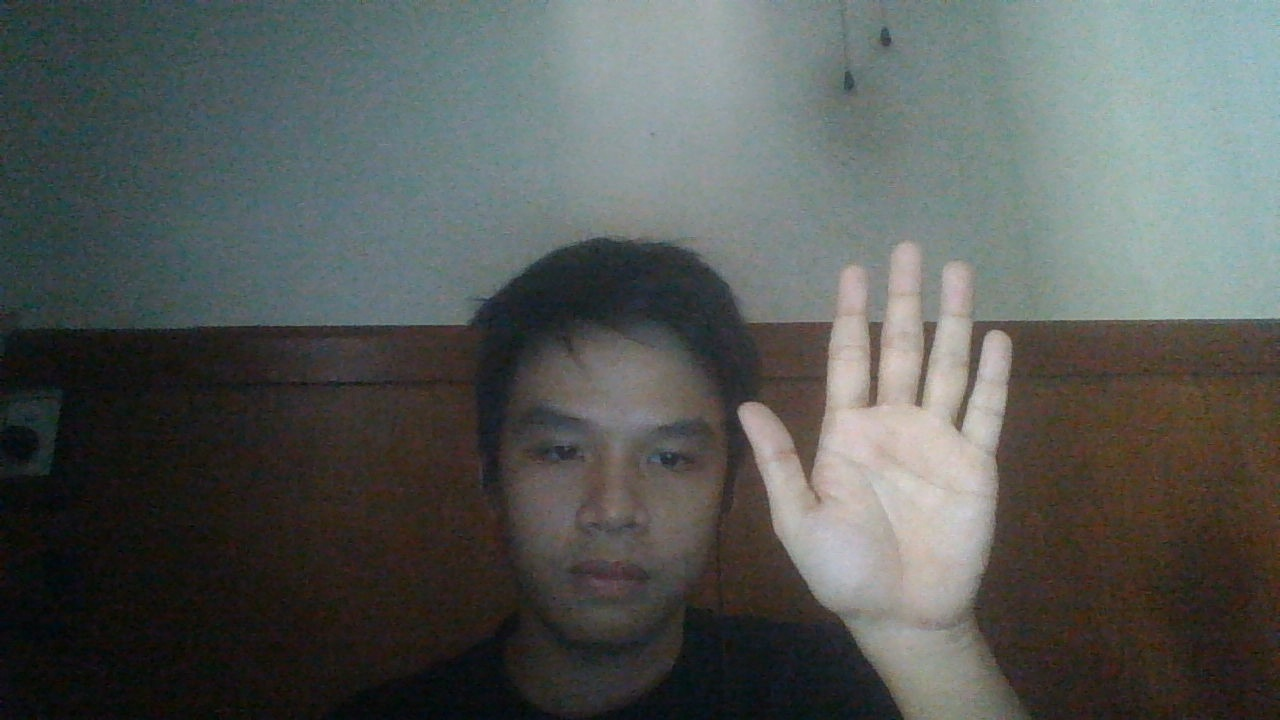check: (735, 235, 1015, 634)
